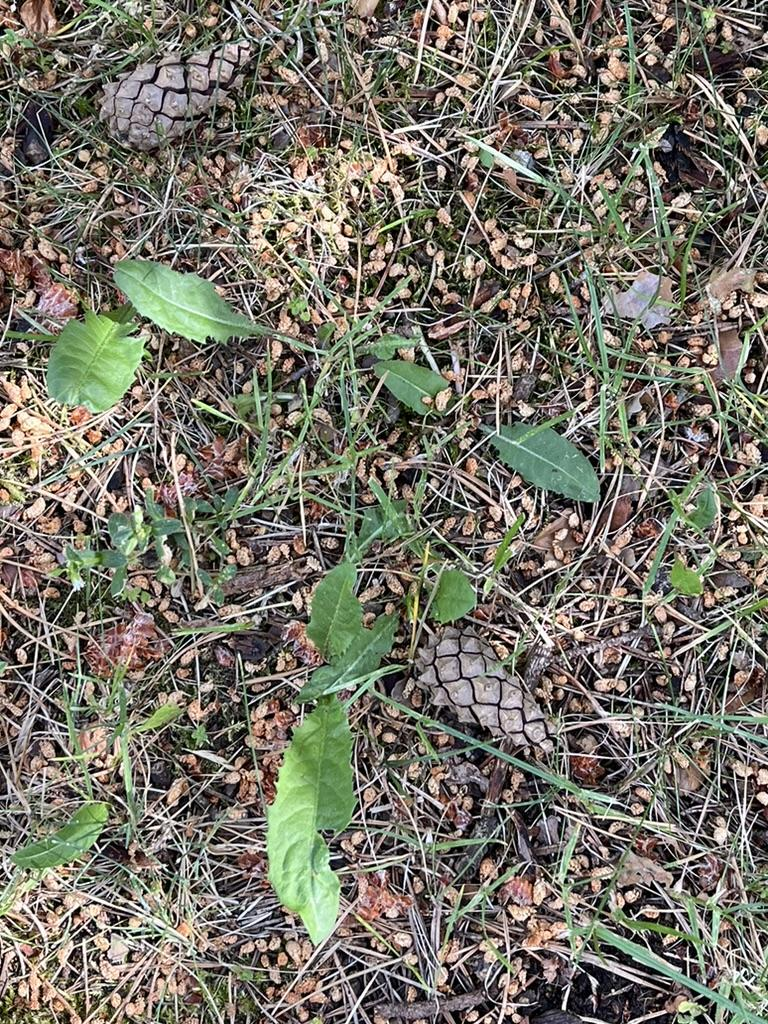pine: (414, 610, 578, 766), (84, 26, 268, 163)
